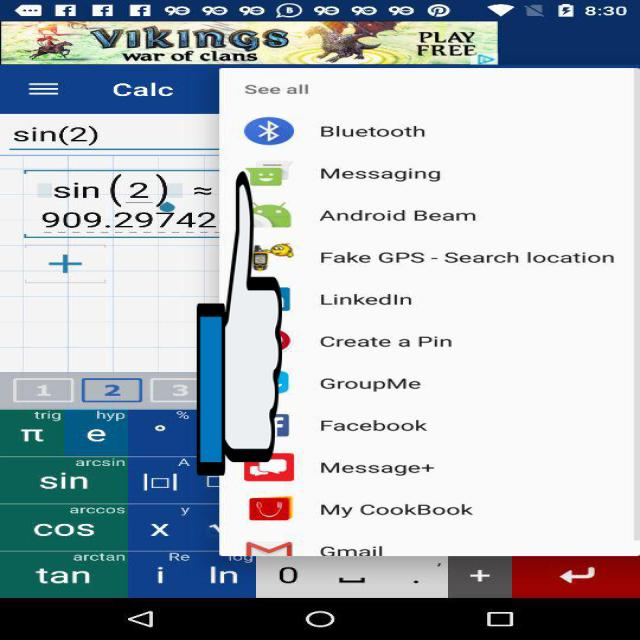privacy zuckering: (197, 165, 282, 482)
